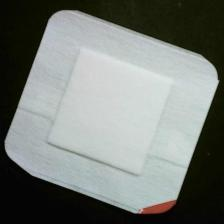Dressing: (6, 10, 220, 216)
Red_T: (131, 201, 190, 220)
